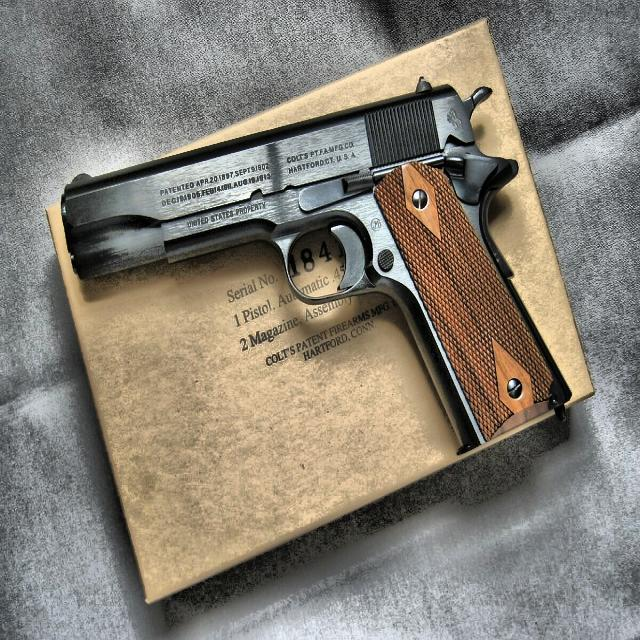Colt m1911: (59, 74, 574, 456)
